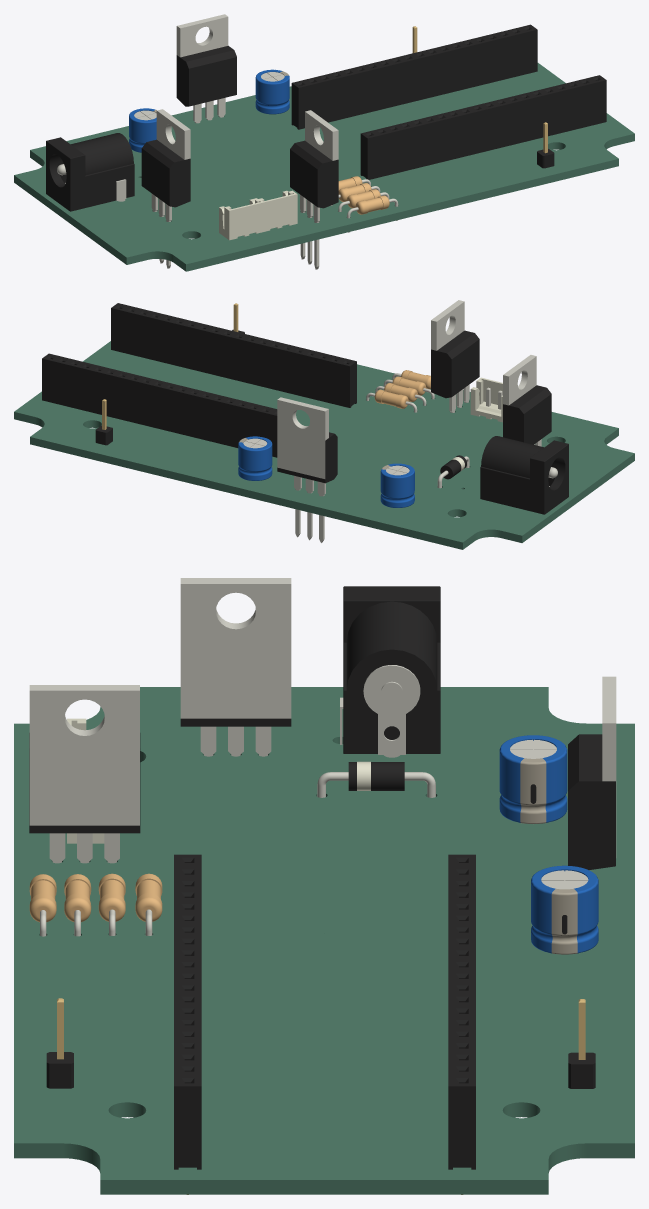
Rendered from blinkrite-pcb.glb.
The picture shows the model from 3 angles, top to bottom: view 1: azimuth 30°, elevation 25°; view 2: azimuth 150°, elevation 25°; view 3: azimuth 270°, elevation 25°; orthographic projection. The views are drawn at different scales.
Visible parts, largest first — view 1: =>[0:1:1:18], =>[0:1:1:7] (×2), =>[0:1:1:5] (×3), =>[0:1:1:17], =>[0:1:1:9] (×2), =>[0:1:1:15] (×2), =>[0:1:1:3] (×3), =>[0:1:1:13]; view 2: =>[0:1:1:18], =>[0:1:1:7] (×2), =>[0:1:1:5] (×3), =>[0:1:1:17], =>[0:1:1:15] (×2), =>[0:1:1:3] (×3), =>[0:1:1:9], =>[0:1:1:11], =>[0:1:1:13]; view 3: =>[0:1:1:18], =>[0:1:1:5] (×3), =>[0:1:1:7] (×2), =>[0:1:1:17], =>[0:1:1:15] (×2), =>[0:1:1:3] (×4), =>[0:1:1:13] (×2), =>[0:1:1:11].
Part boxes in pixels (box(x1,y1,x2,y2)): =>[0:1:1:18]: box(14, 63, 634, 271); =>[0:1:1:7] (×2): box(291, 24, 606, 179); =>[0:1:1:5] (×3): box(141, 14, 338, 269); =>[0:1:1:17]: box(46, 133, 134, 211); =>[0:1:1:9] (×2): box(219, 190, 297, 240); =>[0:1:1:15] (×2): box(129, 69, 289, 152); =>[0:1:1:3] (×3): box(331, 183, 398, 232); =>[0:1:1:13]: box(537, 122, 554, 168); =>[0:1:1:18]: box(14, 341, 634, 549); =>[0:1:1:7] (×2): box(42, 303, 356, 457); =>[0:1:1:5] (×3): box(277, 300, 551, 542); =>[0:1:1:17]: box(480, 436, 568, 514); =>[0:1:1:15] (×2): box(238, 436, 414, 507); =>[0:1:1:3] (×3): box(366, 376, 434, 412); =>[0:1:1:9]: box(470, 377, 502, 422); =>[0:1:1:11]: box(437, 455, 469, 488); =>[0:1:1:13]: box(95, 399, 112, 445); =>[0:1:1:18]: box(14, 687, 634, 1194); =>[0:1:1:5] (×3): box(29, 578, 616, 869); =>[0:1:1:7] (×2): box(174, 854, 475, 1194); =>[0:1:1:17]: box(340, 586, 440, 757); =>[0:1:1:15] (×2): box(499, 735, 598, 954); =>[0:1:1:3] (×4): box(29, 873, 162, 936); =>[0:1:1:13] (×2): box(46, 998, 595, 1088); =>[0:1:1:11]: box(317, 761, 435, 797).
Size of the model in its own units: 0.108 by 0.0285 by 0.0575.
